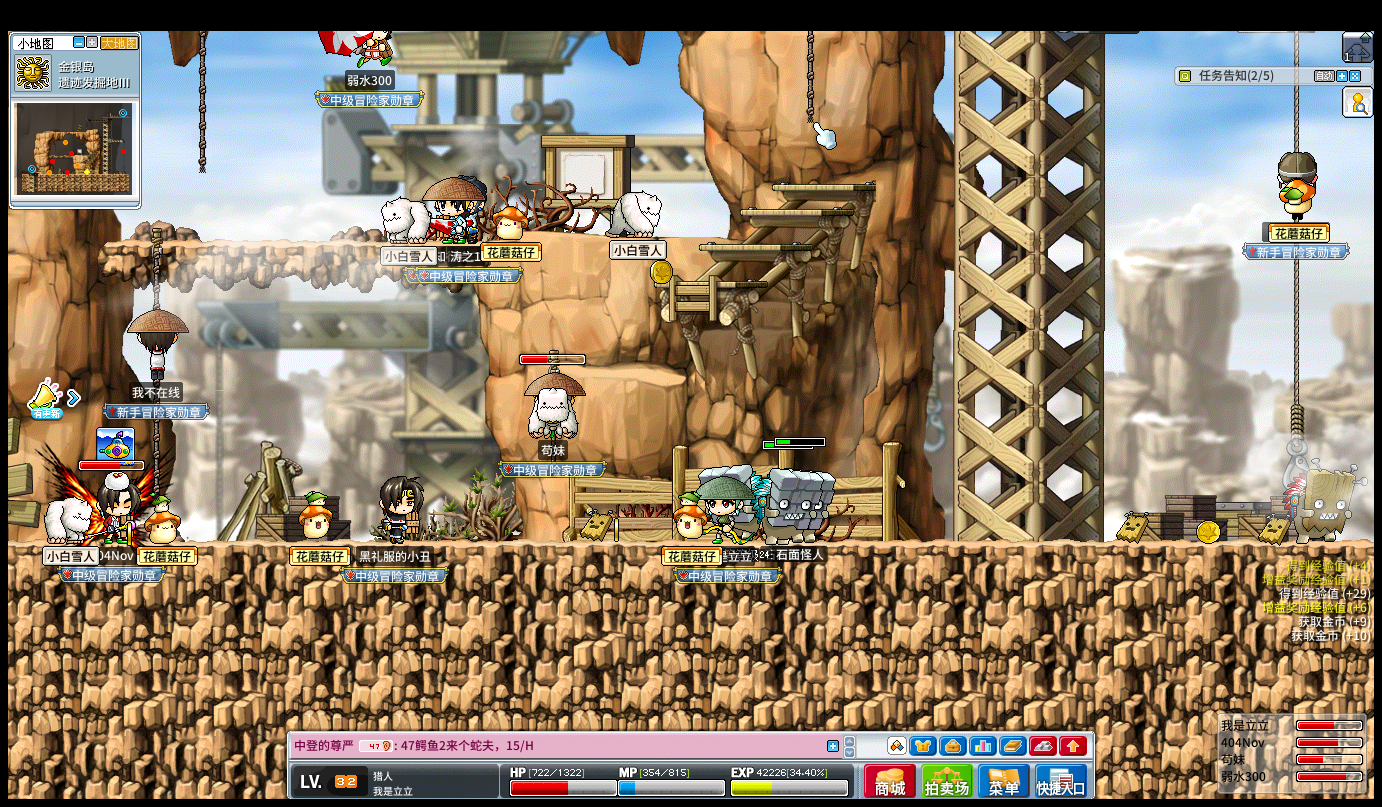floor: (103, 239, 476, 249), (581, 365, 687, 386), (649, 280, 764, 291), (583, 232, 730, 240), (649, 279, 768, 288), (696, 243, 810, 251), (736, 207, 849, 215), (771, 183, 875, 191)
monster: (1283, 459, 1361, 541), (755, 467, 833, 542)
rope: (1291, 257, 1302, 407), (198, 29, 207, 174), (804, 29, 814, 123), (150, 226, 161, 309), (1292, 30, 1299, 149), (154, 417, 164, 487), (1289, 398, 1304, 438), (153, 418, 161, 485)
